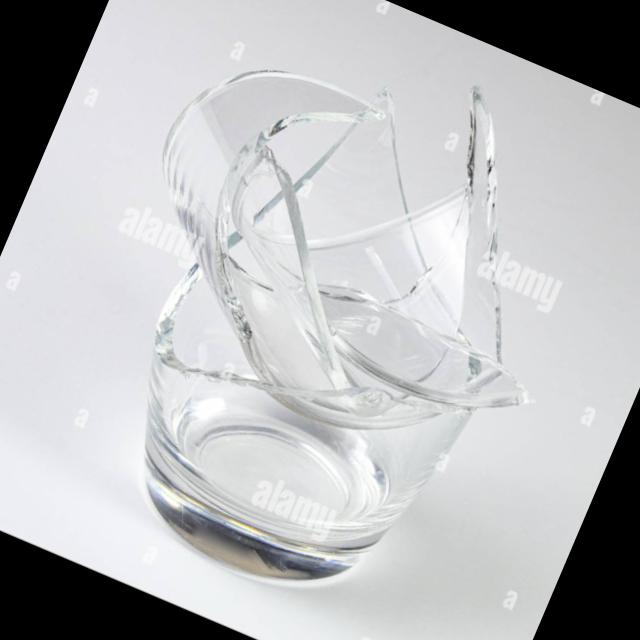PecahanKaca: (19, 0, 633, 640)
